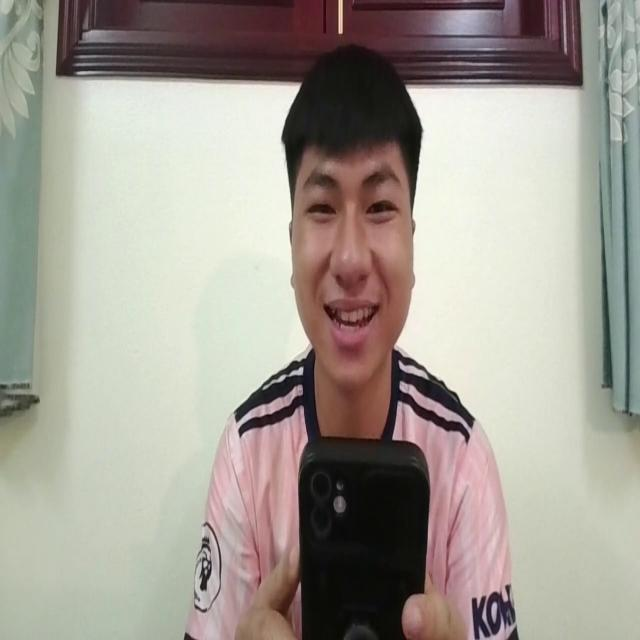phone: (294, 428, 429, 640)
student: (191, 34, 516, 640)
